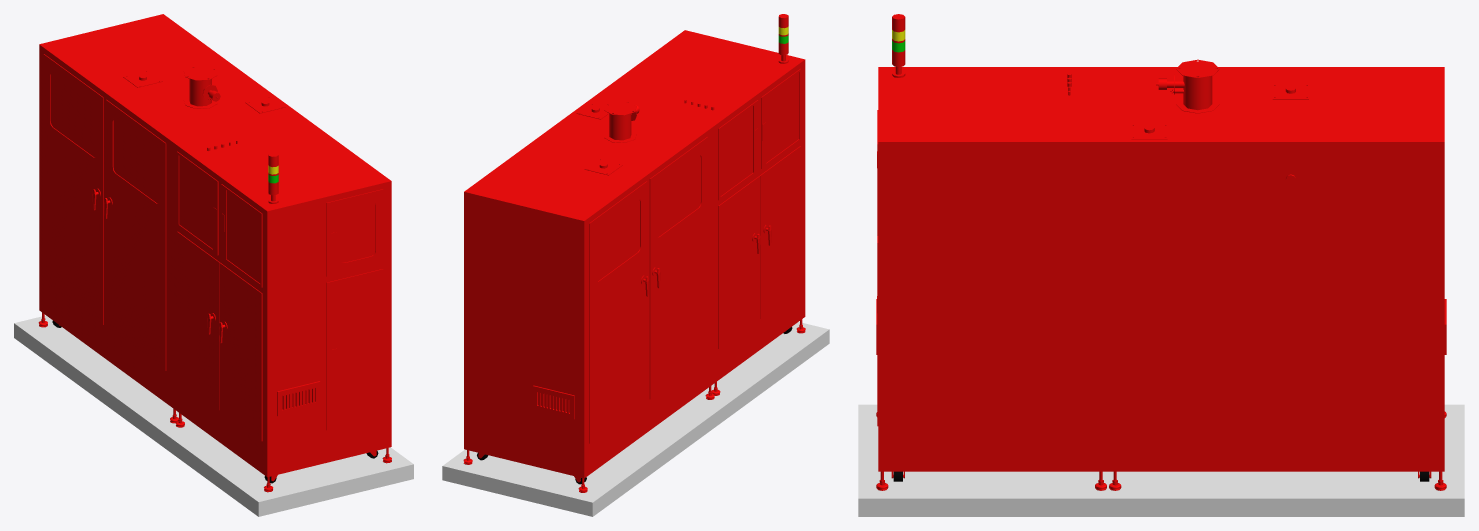
The model's file is WLS.gltf.
3 views of the same model, side by side, from view 1: azimuth 30°, elevation 25°; view 2: azimuth 150°, elevation 25°; view 3: azimuth 270°, elevation 25° (orthographic). The views are drawn at different scales.
Visible parts, largest first — view 1: FOUNDATION.006; view 2: FOUNDATION.006; view 3: FOUNDATION.006.
Part boxes in pixels (x1=…): FOUNDATION.006: x1=14, y1=14, x2=413, y2=516; FOUNDATION.006: x1=442, y1=14, x2=829, y2=516; FOUNDATION.006: x1=858, y1=14, x2=1464, y2=516.
Size of the model in its own units: 1.1 by 2.32 by 3.
